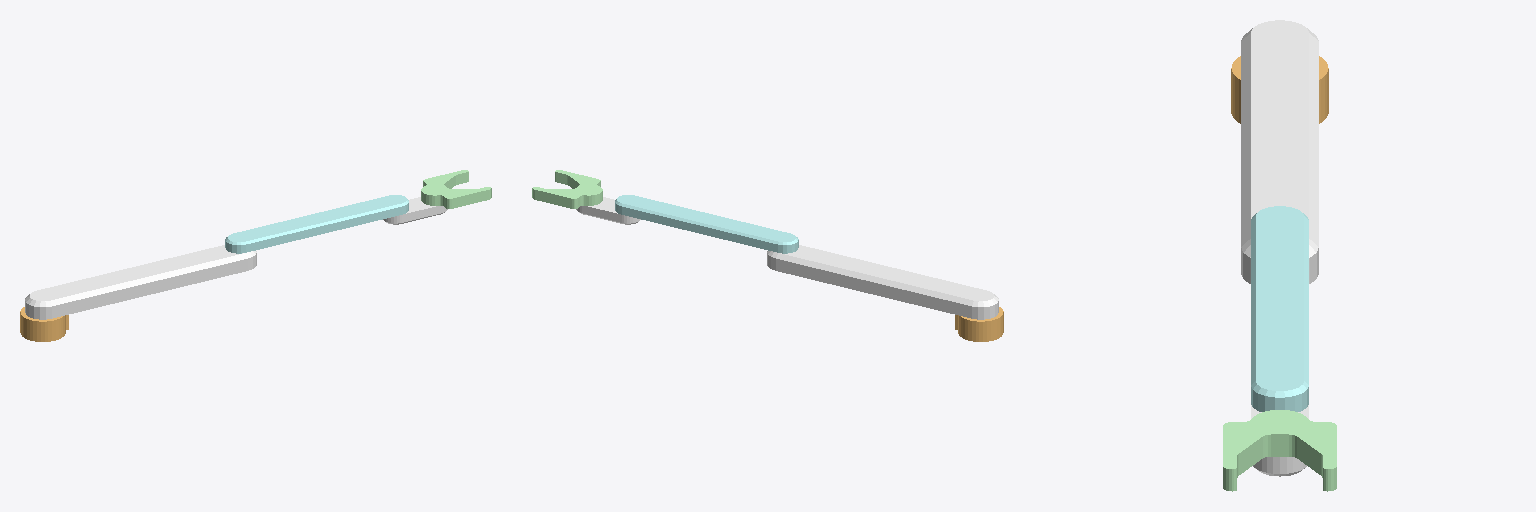
URDF robot description (planar_robot):
<?xml version="1.0" encoding="utf-8"?>
<!-- This URDF was automatically created by SolidWorks to URDF Exporter! Originally created by [author] ([email redacted]) 
     Commit Version: 1.6.0-4-g7f85cfe  Build Version: 1.6.7995.38578
     For more information, please see http://wiki.ros.org/sw_urdf_exporter -->
<robot
  name="planar_robot">
  <link name="dummy_link"/>
  <joint name="joint_dummy" type="fixed">
    <parent link="dummy_link" />
    <child link="base_link" />
  </joint>
  <link
    name="base_link">
    <inertial>
      <origin
        xyz="0.0016724 -0.025 3.5912E-19"
        rpy="0 0 0" />
      <mass
        value="0.40539" />
      <inertia
        ixx="0.00033091"
        ixy="5.152E-21"
        ixz="-6.8519E-21"
        iyy="0.00052707"
        iyz="-7.2766E-22"
        izz="0.00036507" />
    </inertial>
    <visual>
      <origin
        xyz="0 0 0"
        rpy="0 0 0" />
      <geometry>
        <mesh
          filename="package://planar_robot/meshes/base_link.STL" />
      </geometry>
      <material
        name="">
        <color
          rgba="1 0.8 0.5 1" />
      </material>
    </visual>
    <collision>
      <origin
        xyz="0 0 0"
        rpy="0 0 0" />
      <geometry>
        <mesh
          filename="package://planar_robot/meshes/base_link.STL" />
      </geometry>
    </collision>
  </link>
  <link
    name="link_1">
    <inertial>
      <origin
        xyz="0.25 0.019411 -6.9389E-17"
        rpy="0 0 0" />
      <mass
        value="1.7395" />
      <inertia
        ixx="0.0010806"
        ixy="1.6333E-19"
        ixz="9.1886E-18"
        iyy="0.046641"
        iyz="8.3906E-21"
        izz="0.046004" />
    </inertial>
    <visual>
      <origin
        xyz="0 0 0"
        rpy="0 0 0" />
      <geometry>
        <mesh
          filename="package://planar_robot/meshes/link_1.STL" />
      </geometry>
      <material
        name="">
        <color
          rgba="1 1 1 1" />
      </material>
    </visual>
    <collision>
      <origin
        xyz="0 0 0"
        rpy="0 0 0" />
      <geometry>
        <mesh
          filename="package://planar_robot/meshes/link_1.STL" />
      </geometry>
    </collision>
  </link>
  <joint
    name="joint_1"
    type="continuous">
    <origin
      xyz="0 0 0"
      rpy="1.5708 0 0" />
    <parent
      link="base_link" />
    <child
      link="link_1" />
    <axis
      xyz="0 1 0" />
    <limit
      lower="-6.28"
      upper="6.28"
      effort="0"
      velocity="0" />
  </joint>
  <link
    name="link_2">
    <inertial>
      <origin
        xyz="0.2 0.012299 -1.6653E-16"
        rpy="0 0 0" />
      <mass
        value="0.65846" />
      <inertia
        ixx="0.00022042"
        ixy="7.022E-20"
        ixz="1.1791E-17"
        iyy="0.011151"
        iyz="7.0855E-21"
        izz="0.010997" />
    </inertial>
    <visual>
      <origin
        xyz="0 0 0"
        rpy="0 0 0" />
      <geometry>
        <mesh
          filename="package://planar_robot/meshes/link_2.STL" />
      </geometry>
      <material
        name="">
        <color
          rgba="0.8 1 1 1" />
      </material>
    </visual>
    <collision>
      <origin
        xyz="0 0 0"
        rpy="0 0 0" />
      <geometry>
        <mesh
          filename="package://planar_robot/meshes/link_2.STL" />
      </geometry>
    </collision>
  </link>
  <joint
    name="joint_2"
    type="continuous">
    <origin
      xyz="0.5 0.04 0"
      rpy="0 0 0" />
    <parent
      link="link_1" />
    <child
      link="link_2" />
    <axis
      xyz="0 1 0" />
    <limit
      lower="-6.28"
      upper="6.28"
      effort="0"
      velocity="0" />
  </joint>
  <link
    name="link_3">
    <inertial>
      <origin
        xyz="0.05 -0.012263 0"
        rpy="0 0 0" />
      <mass
        value="0.21596" />
      <inertia
        ixx="6.8918E-05"
        ixy="-3.2388E-21"
        ixz="3.1848E-19"
        iyy="0.00045305"
        iyz="-5.6311E-22"
        izz="0.00040598" />
    </inertial>
    <visual>
      <origin
        xyz="0 0 0"
        rpy="0 0 0" />
      <geometry>
        <mesh
          filename="package://planar_robot/meshes/link_3.STL" />
      </geometry>
      <material
        name="">
        <color
          rgba="1 1 1 1" />
      </material>
    </visual>
    <collision>
      <origin
        xyz="0 0 0"
        rpy="0 0 0" />
      <geometry>
        <mesh
          filename="package://planar_robot/meshes/link_3.STL" />
      </geometry>
    </collision>
  </link>
  <joint
    name="joint_3"
    type="continuous">
    <origin
      xyz="0.4 0 0"
      rpy="0 0 0" />
    <parent
      link="link_2" />
    <child
      link="link_3" />
    <axis
      xyz="0 1 0" />
    <limit
      lower="-6.28"
      upper="6.28"
      effort="0"
      velocity="0" />
  </joint>
  <link
    name="link_ee">
    <inertial>
      <origin
        xyz="0.031684 0.0125 -2.7756E-17"
        rpy="0 0 0" />
      <mass
        value="0.22207" />
      <inertia
        ixx="0.00032831"
        ixy="5.2816E-21"
        ixz="1.3891E-19"
        iyy="0.00056864"
        iyz="3.089E-21"
        izz="0.00026346" />
    </inertial>
    <visual>
      <origin
        xyz="0 0 0"
        rpy="0 0 0" />
      <geometry>
        <mesh
          filename="package://planar_robot/meshes/link_ee.STL" />
      </geometry>
      <material
        name="">
        <color
          rgba="0.8 1 0.8 1" />
      </material>
    </visual>
    <collision>
      <origin
        xyz="0 0 0"
        rpy="0 0 0" />
      <geometry>
        <mesh
          filename="package://planar_robot/meshes/link_ee.STL" />
      </geometry>
    </collision>
  </link>
  <joint
    name="joint_ee"
    type="fixed">
    <origin
      xyz="0.1 0 0"
      rpy="0 0 0" />
    <parent
      link="link_3" />
    <child
      link="link_ee" />
    <axis
      xyz="0 0 0" />
  </joint>
</robot>

--- Render facts (derived) ---
The picture shows the robot from 3 angles, left to right: view 1: azimuth 30°, elevation 25°; view 2: azimuth 150°, elevation 25°; view 3: azimuth 270°, elevation 25°; orthographic projection.
Robot: planar_robot — 6 links, 5 joints (3 continuous, 2 fixed); root link dummy_link; default pose: every joint at zero.
Links seen in each view (by area): view 1: link_1, link_2, link_ee, base_link, link_3; view 2: link_1, link_2, link_ee, base_link, link_3; view 3: link_1, link_2, link_ee, base_link, link_3.
Link boxes in pixels (x1,y1,x2,y2): link_1: (25,245,256,319); link_2: (225,195,408,253); link_ee: (421,170,491,208); base_link: (20,307,68,341); link_3: (383,197,447,224); link_1: (767,245,998,319); link_2: (615,195,798,253); link_ee: (532,170,602,208); base_link: (955,307,1003,341); link_3: (576,197,640,224); link_1: (1241,20,1318,283); link_2: (1251,206,1308,411); link_ee: (1223,410,1336,491); base_link: (1231,56,1328,123); link_3: (1251,405,1308,476).
Bounding box of the posed robot: 1.16 × 0.1177 × 0.115 m (x, y, z).
5 mesh visuals loaded from 5 distinct referenced files (5 binary STL).
